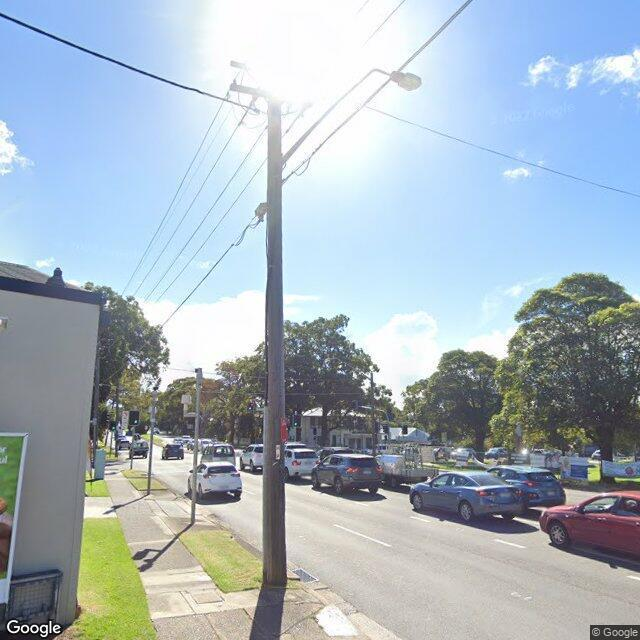crossarm: (230, 84, 270, 96), (230, 60, 245, 68)
streetlight: (282, 65, 423, 167)
timber-pole: (260, 96, 287, 587)
